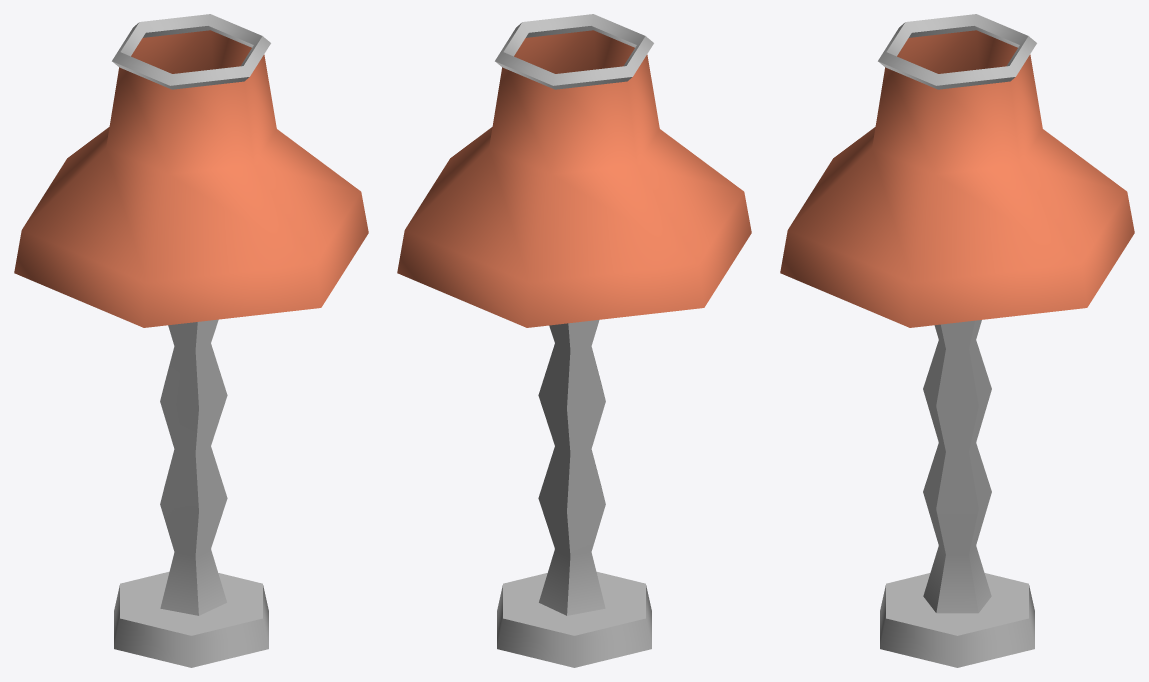
Rendered from lamp_006.glb.
The picture shows the model from 3 angles, left to right: view 1: azimuth 30°, elevation 25°; view 2: azimuth 150°, elevation 25°; view 3: azimuth 270°, elevation 25°; orthographic projection.
Visible parts, largest first — view 1: lamp_006; view 2: lamp_006; view 3: lamp_006.
Boxes of the visible parts, bbox=[...] form: lamp_006: bbox=[14, 14, 368, 667]; lamp_006: bbox=[397, 14, 751, 667]; lamp_006: bbox=[780, 14, 1134, 667].
Bounding box in the file's own units: 0.3402 × 0.6203 × 0.3402.
1 material, 1 textured.
